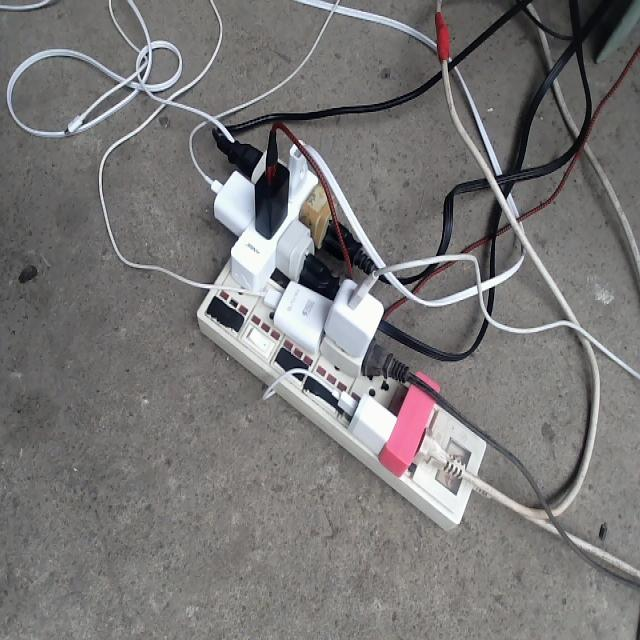-: (193, 137, 481, 528)
